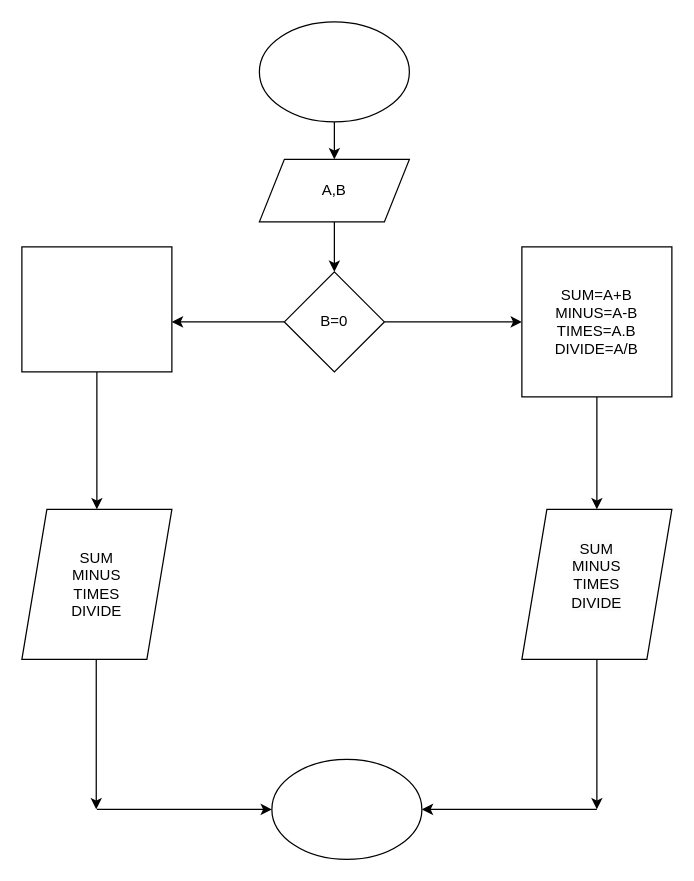
Some shapes in this 694 by 881 pixel diagram are drawn without their labels. The box of each missing label's shape, as (x1, y1, x2, y2) in pixels:
END: (271, 758, 422, 859)
START: (258, 21, 409, 122)
SUM=A MINUS=A TIMES=A DIVIDE INUNDEFINED: (21, 246, 172, 372)
